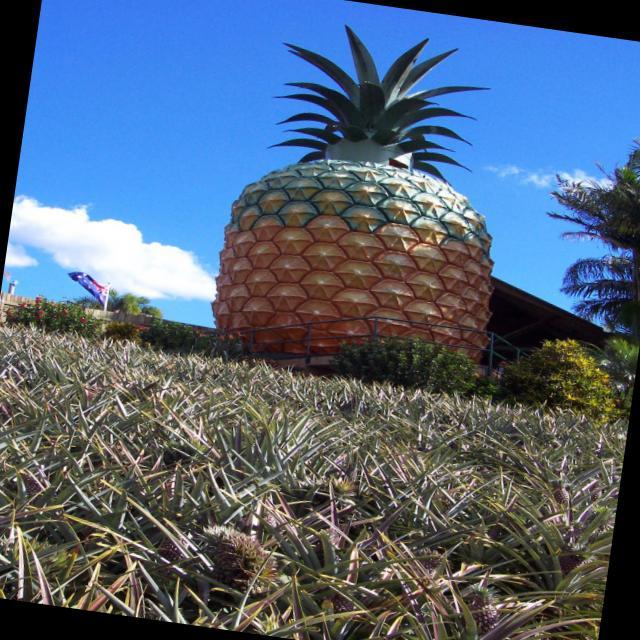PINEAPLE: (195, 9, 545, 378)
